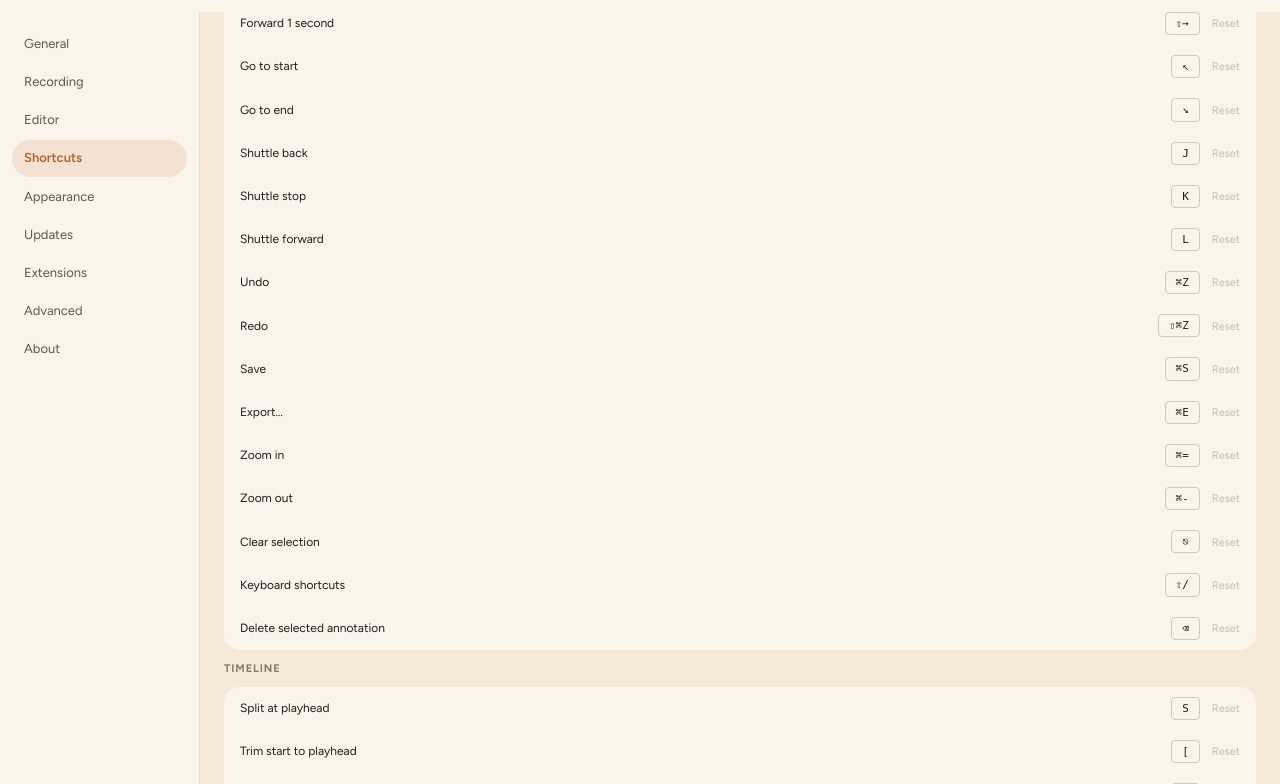
Shortcuts page › warns inline and does not save a blocking conflict; Esc cancels
(page scrolled)
Click the button "⌘E" at (1182, 412), box 1165,401 -> 1200,424
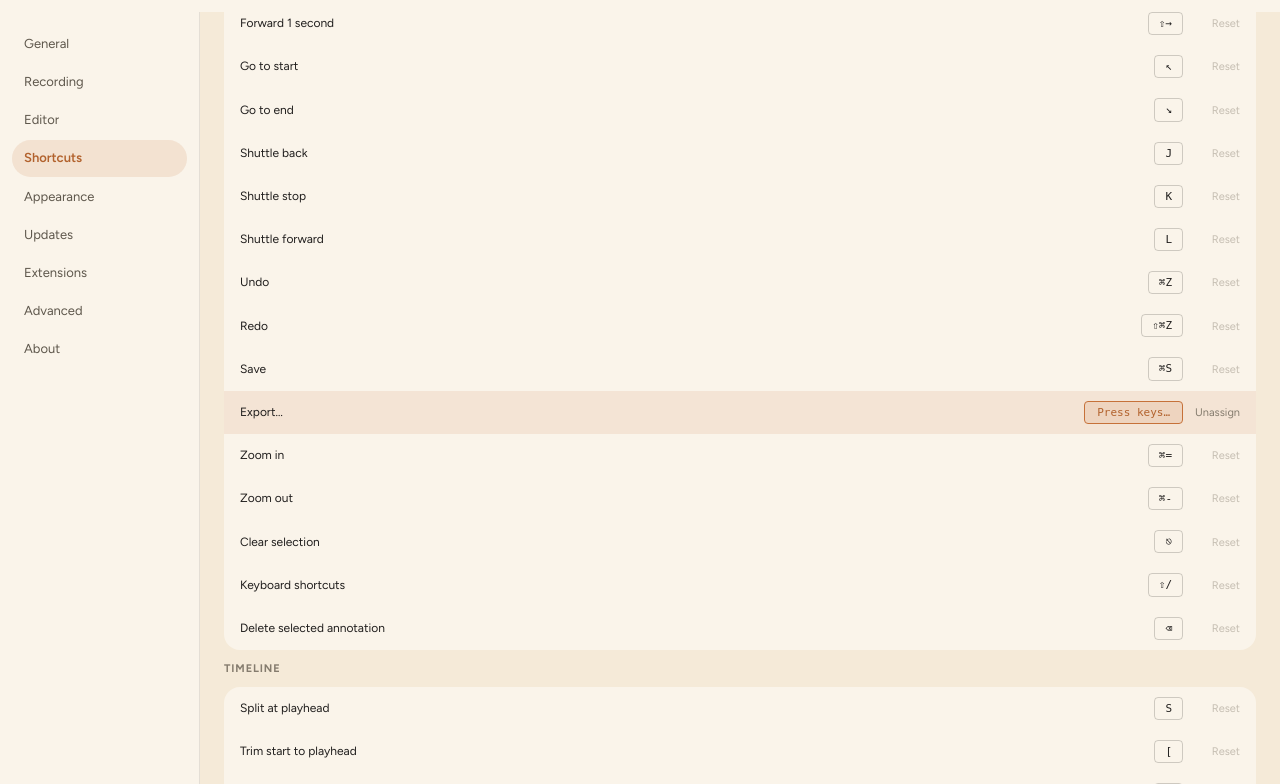
Press s in the button "Press keys…", box 1084,401 -> 1183,424
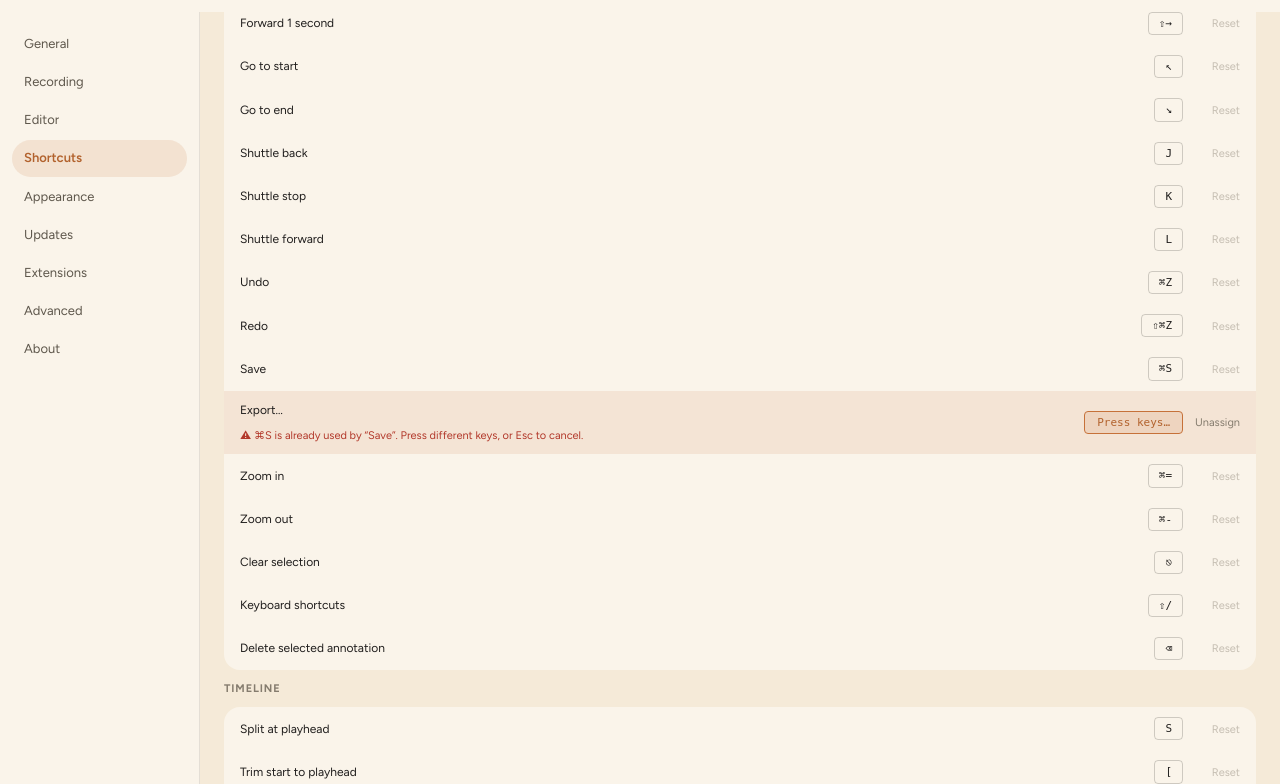
expect the message shows "⌘S is already used by “Save”": met, box 254,429 -> 583,442
Press Escape in the button "Press keys…", box 1084,411 -> 1183,434
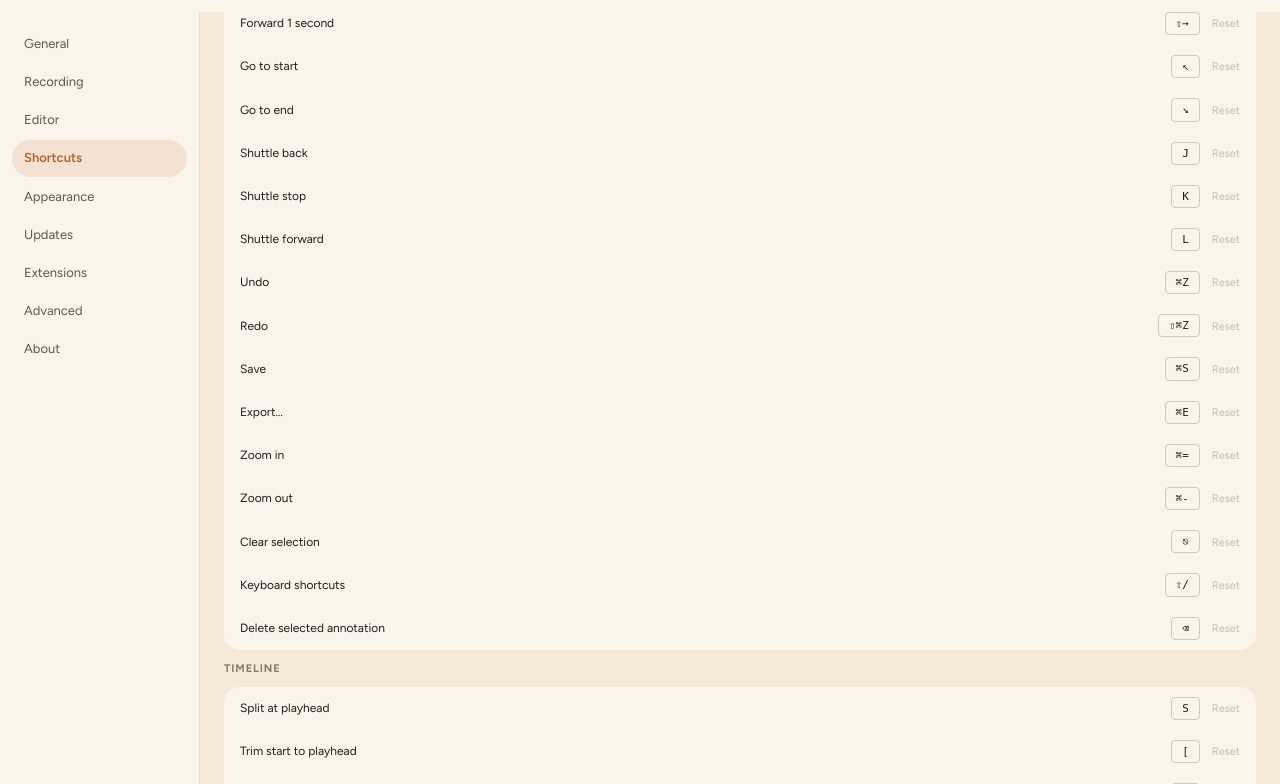
expect the message "⚠⌘S is already used by “Save”. Press different keys, or Esc to cancel." is gone: met
